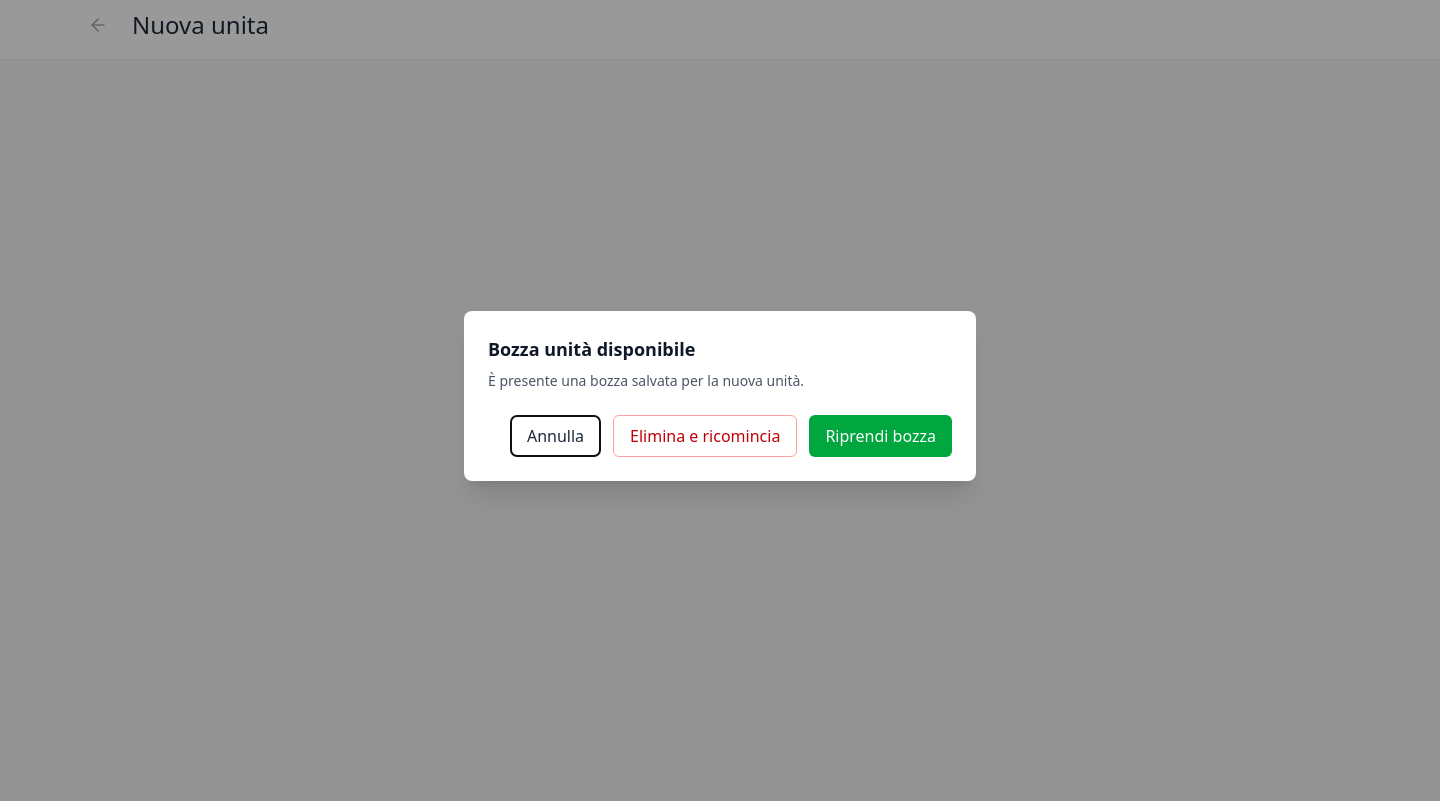
Scenario: A6.2 add unit from Building › ribasa sul Building corrente una bozza proveniente da un altro Building
Click the button "Riprendi bozza".
click(881, 436)  # box [809,415,952,457]
(page scrolled)
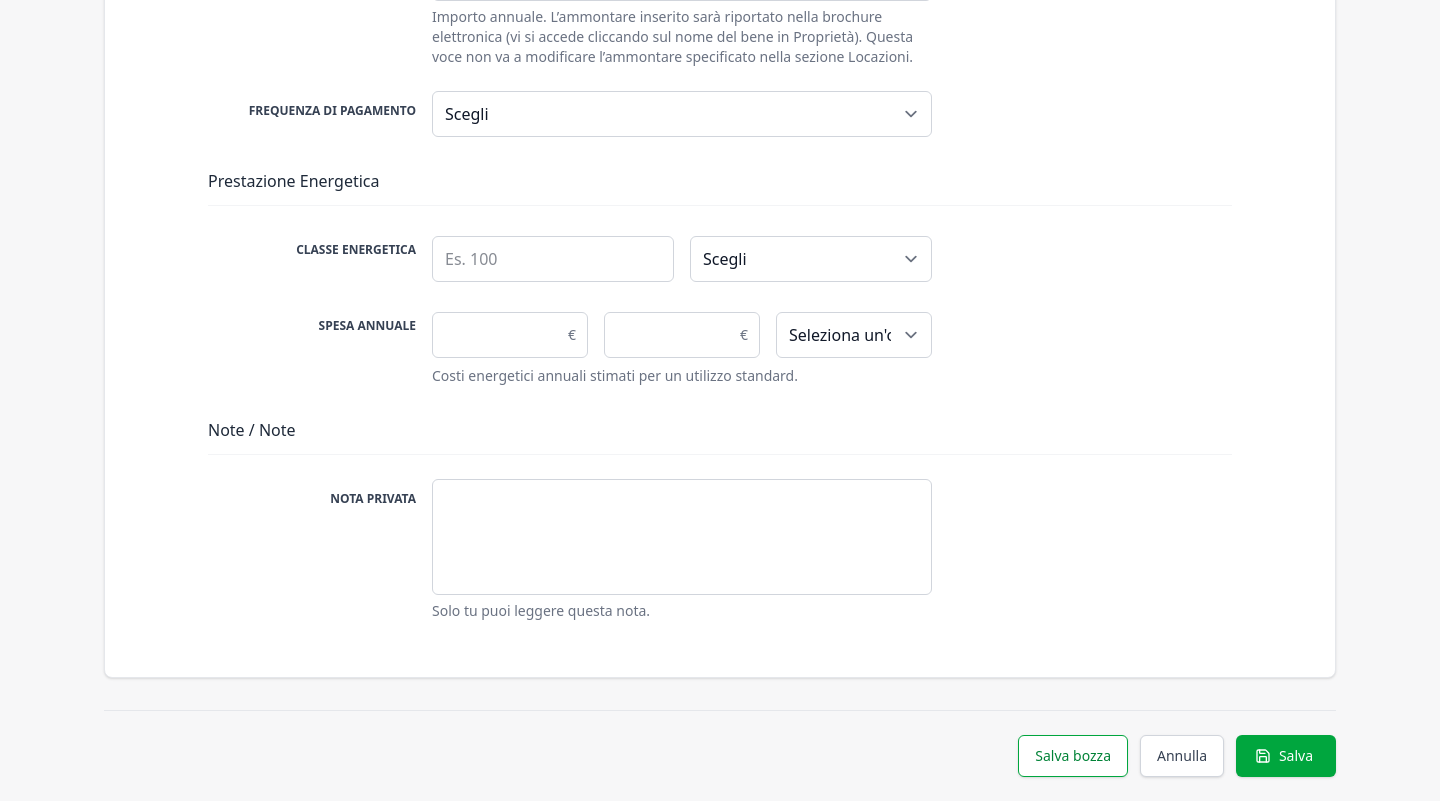
Click the button "Salva bozza".
click(1073, 756)  # box [1018,735,1128,777]
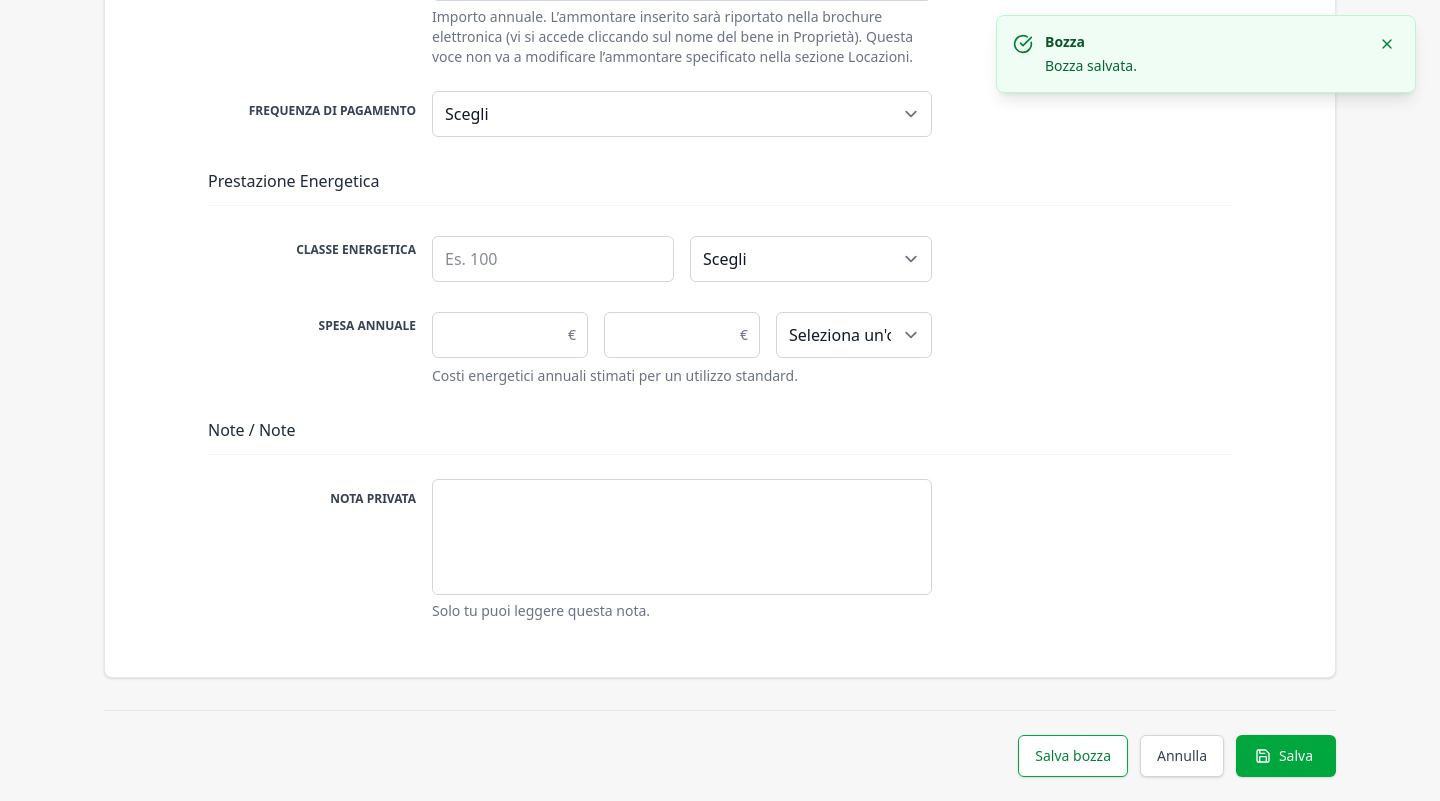
Expected: the text "Bozza salvata." is shown, [1045,56,1137,75]
